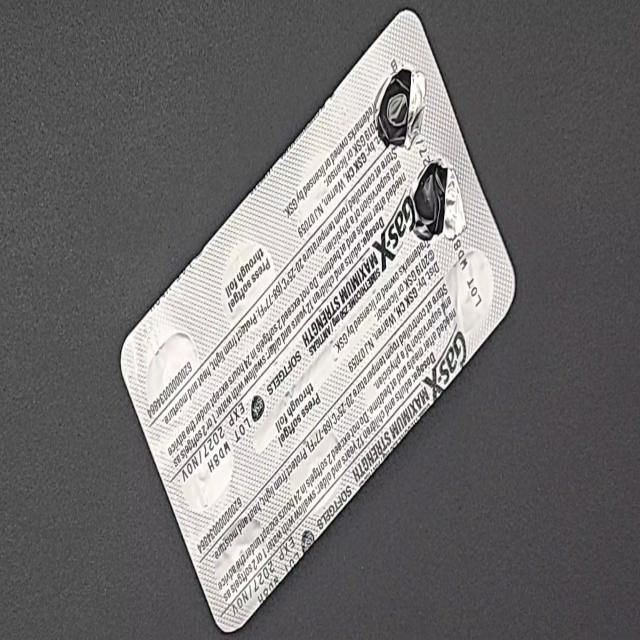defect: (408, 152, 468, 246), (372, 63, 428, 153)
